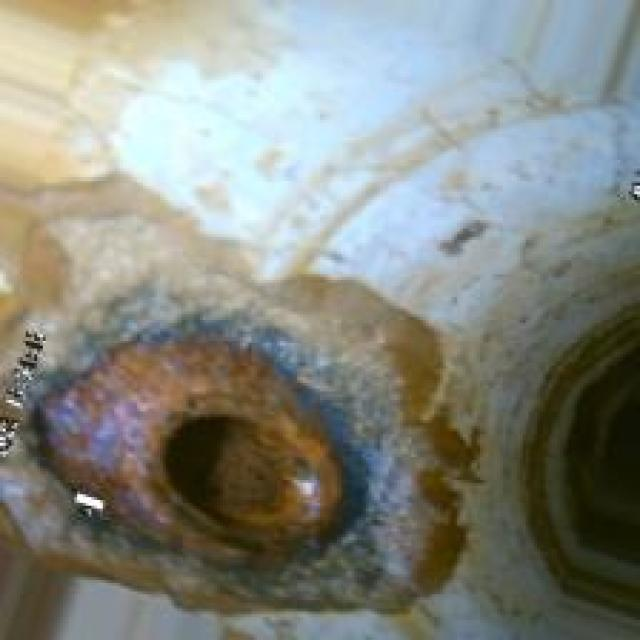ferrule: (66, 329, 360, 560)
